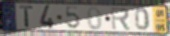0: (134, 7, 151, 33), (86, 6, 103, 31)
4: (38, 4, 56, 31)
5: (64, 6, 81, 30)
R: (110, 6, 132, 32)
T: (18, 5, 34, 28)
